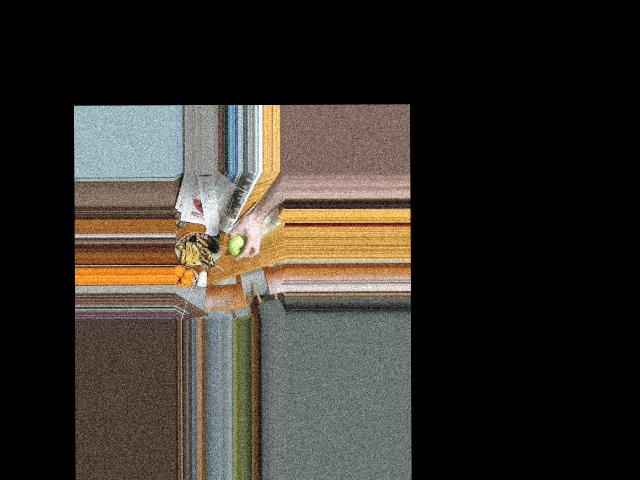apple: (227, 231, 248, 259)
